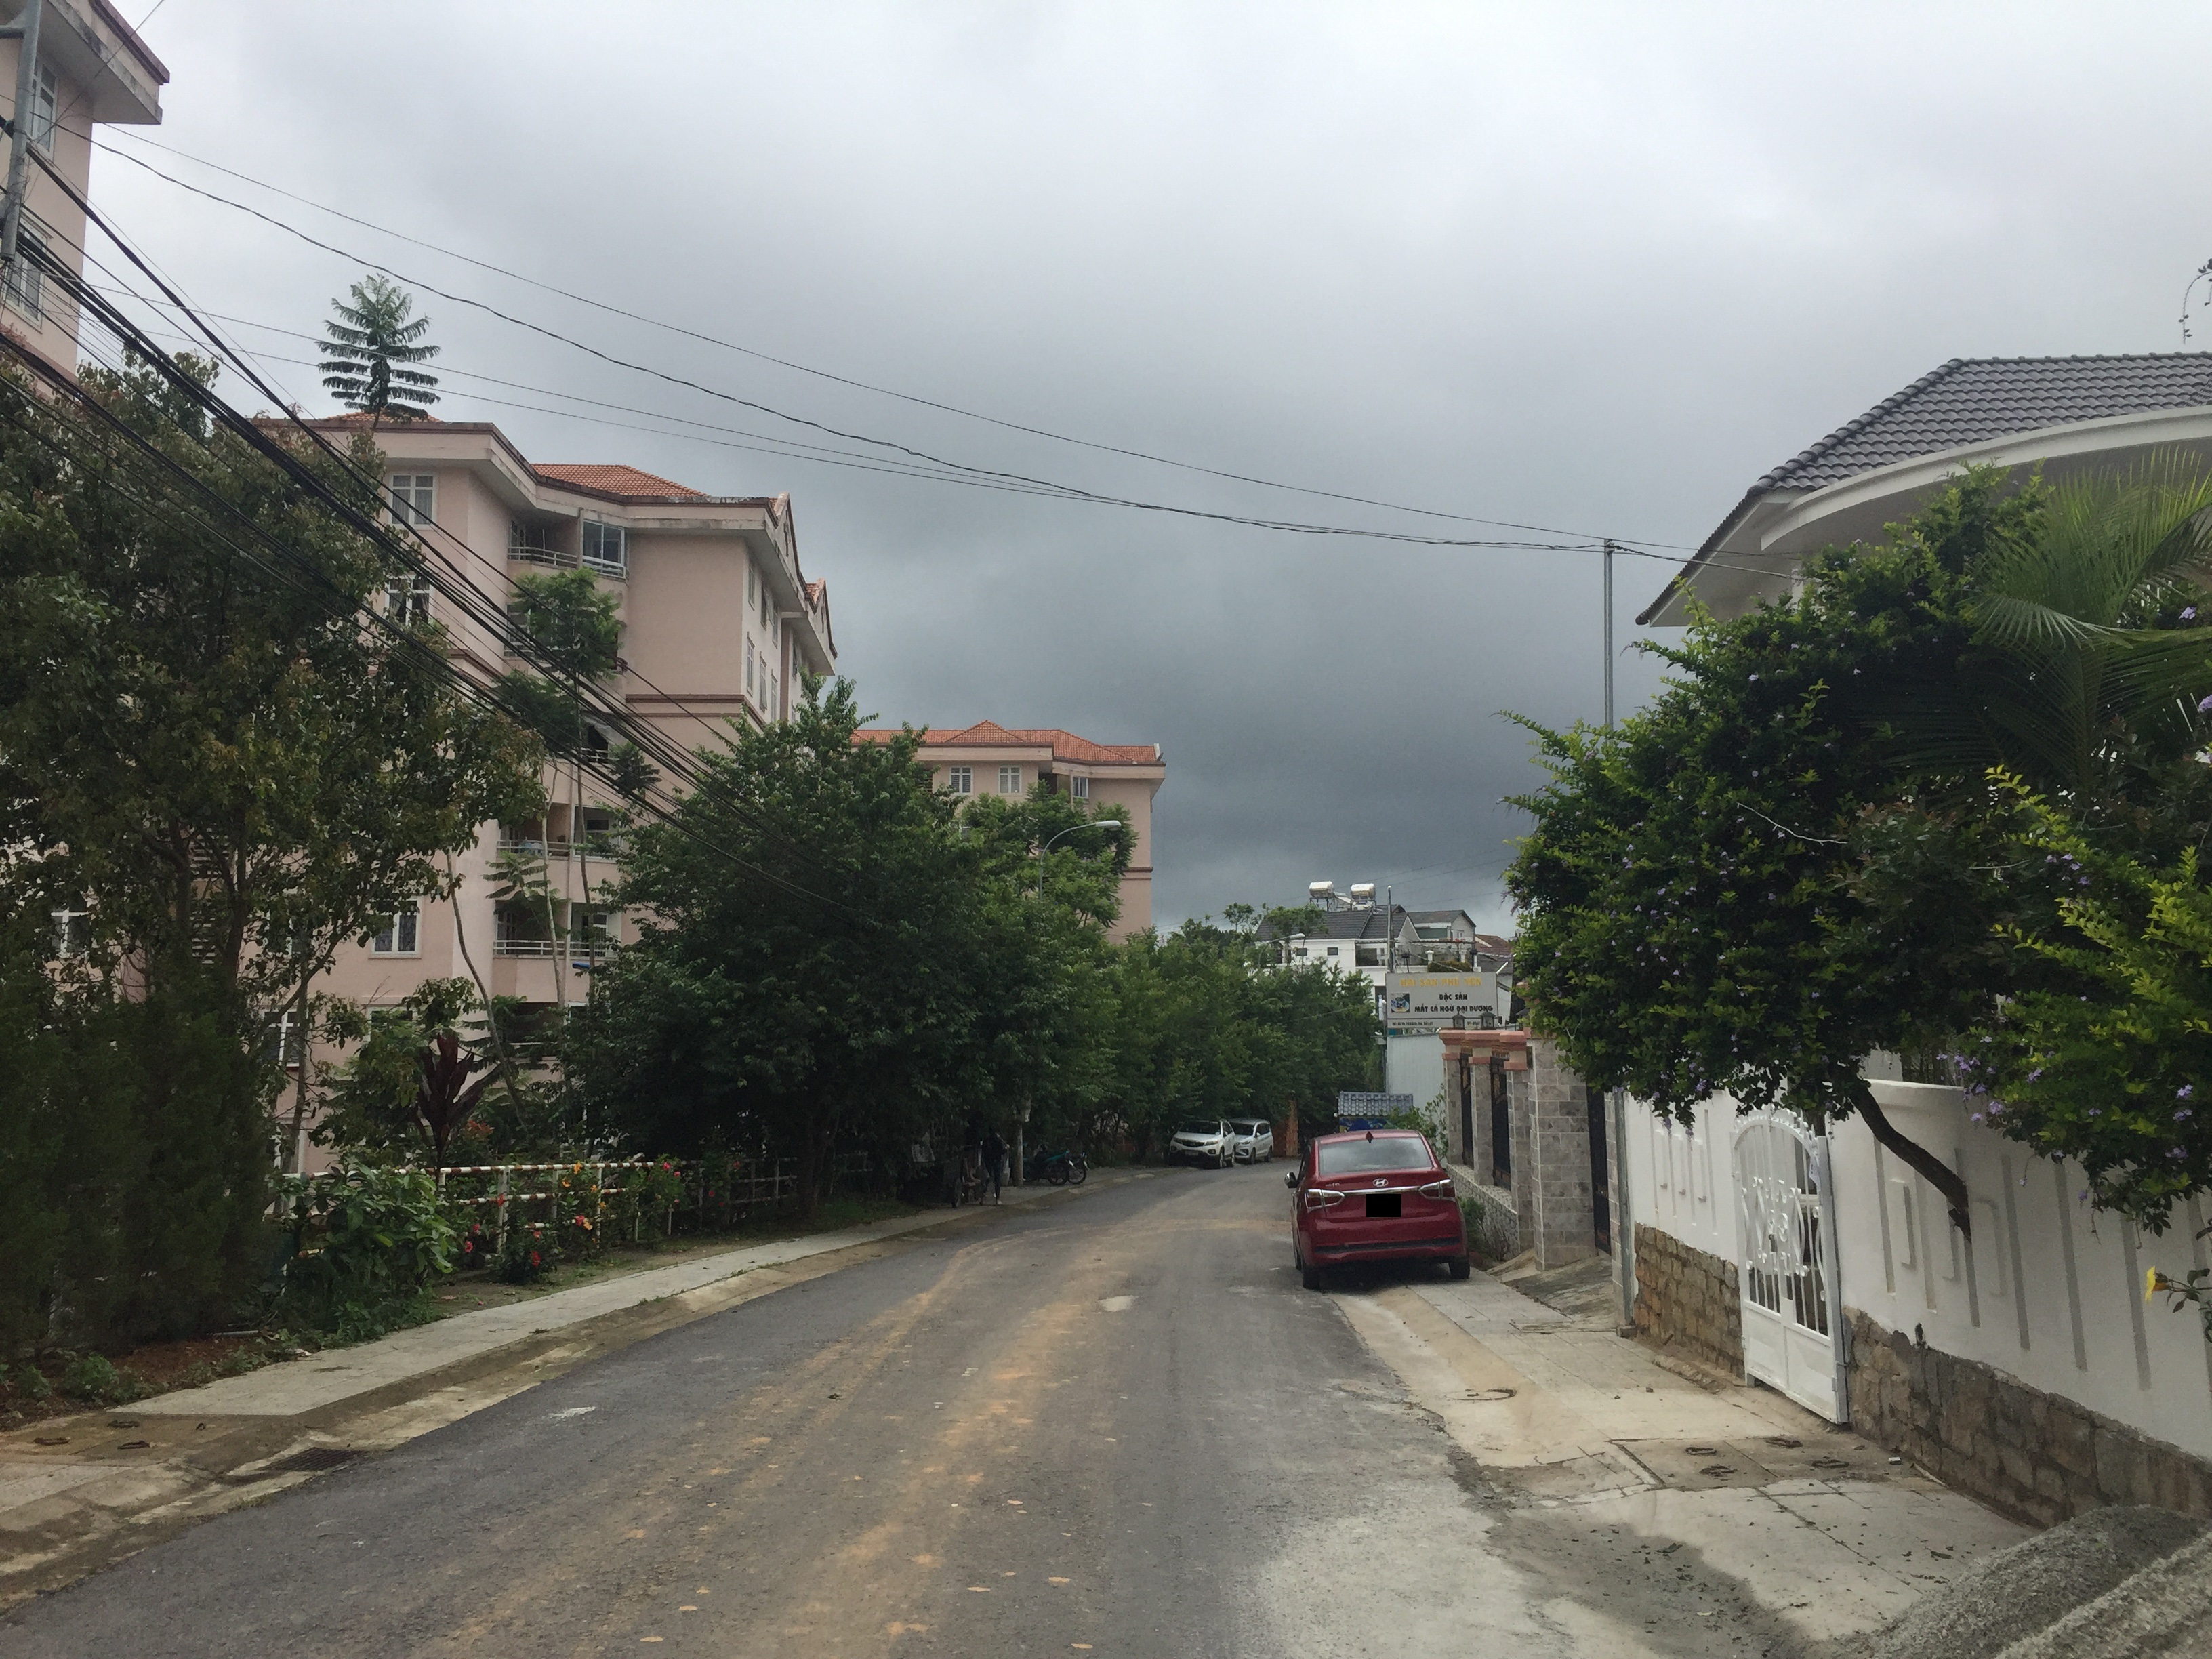hole: (1390, 1399, 1447, 1434), (1334, 1384, 1390, 1403)
